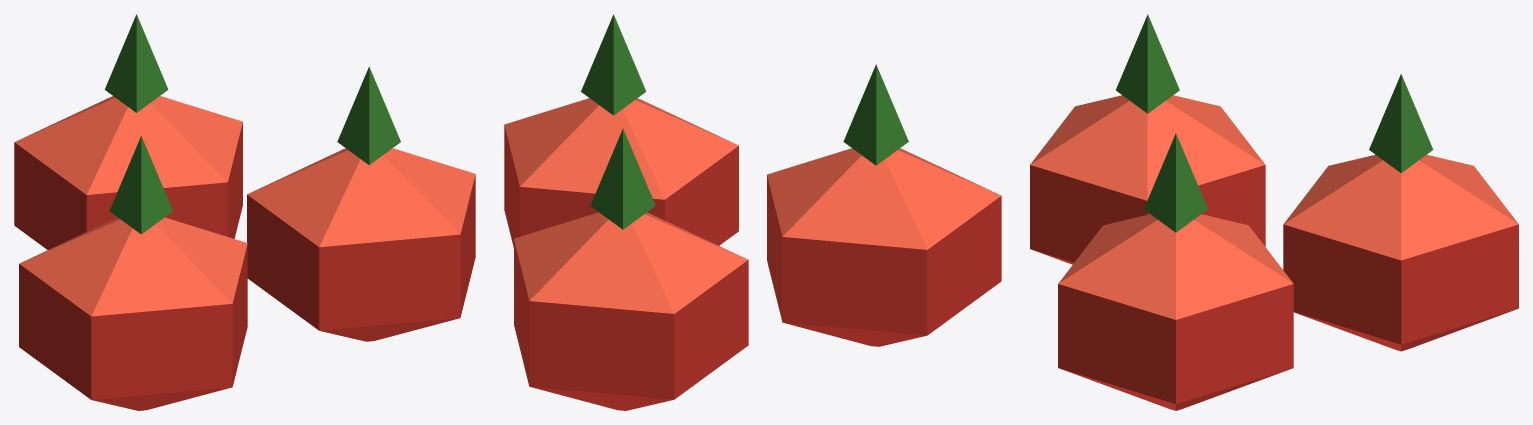
Rendered from tomato-crop.glb.
The picture shows the model from 3 angles, left to right: view 1: azimuth 30°, elevation 25°; view 2: azimuth 150°, elevation 25°; view 3: azimuth 270°, elevation 25°; orthographic projection. The views are drawn at different scales.
Parts seen in each view (by area): view 1: tomato-crop; view 2: tomato-crop; view 3: tomato-crop.
Boxes of the visible parts, x1,y1,x2,y2 form: tomato-crop: (14,14,475,410); tomato-crop: (504,14,1001,410); tomato-crop: (1030,14,1518,410).
Size of the model in its own units: 0.3592 by 0.2156 by 0.3474.
1 material, 1 textured.
